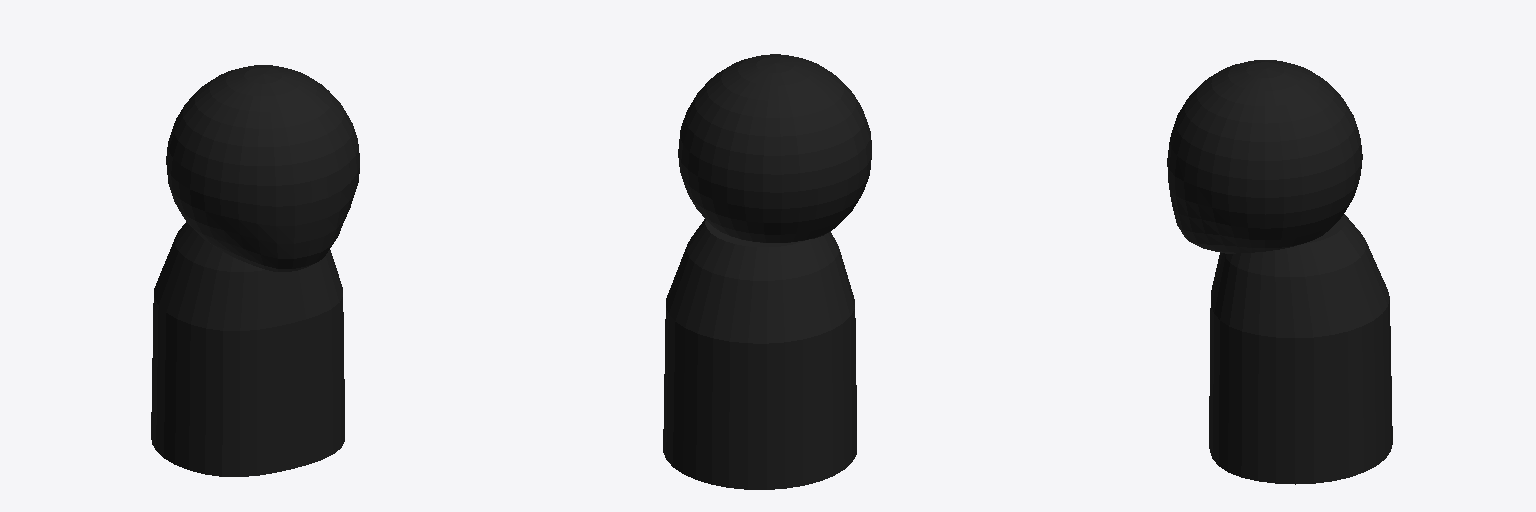
The model's file is guy.obj.
The picture shows the model from 3 angles: view 1: azimuth 30°, elevation 25°; view 2: azimuth 150°, elevation 25°; view 3: azimuth 270°, elevation 25°; orthographic projection.
Visible parts, largest first — view 1: Cylinder; view 2: Cylinder; view 3: Cylinder.
Part boxes in pixels (left/top/right/bottom): Cylinder: left=151, top=65, right=359, bottom=476; Cylinder: left=663, top=54, right=871, bottom=489; Cylinder: left=1167, top=60, right=1392, bottom=484.
Size of the model in its own units: 1.48 by 3.13 by 1.71.